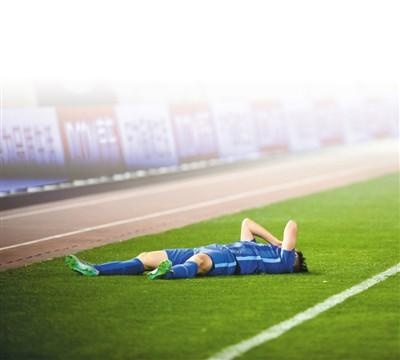falling: (61, 215, 311, 284)
